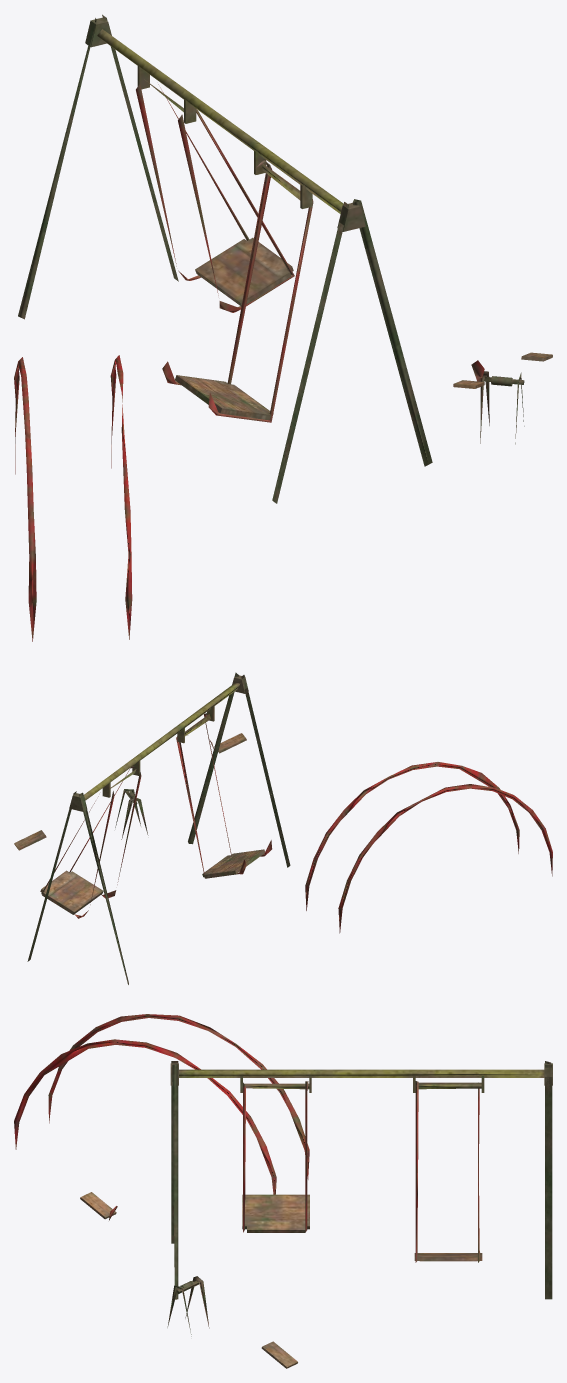
Rendered from swings.lod1.glb.
The picture shows the model from 3 angles, top to bottom: view 1: azimuth 30°, elevation 25°; view 2: azimuth 150°, elevation 25°; view 3: azimuth 270°, elevation 25°; orthographic projection. The views are drawn at different scales.
Visible parts, largest first — view 1: Circle002__0; view 2: Circle002__0; view 3: Circle002__0.
Boxes of the visible parts, <box> form: Circle002__0: <box>14,14,552,641</box>; Circle002__0: <box>14,672,552,984</box>; Circle002__0: <box>14,1014,552,1368</box>.
Bounding box in the file's own units: 6.29 × 2.49 × 5.8.
Materials: 1 (1 with a texture image).
